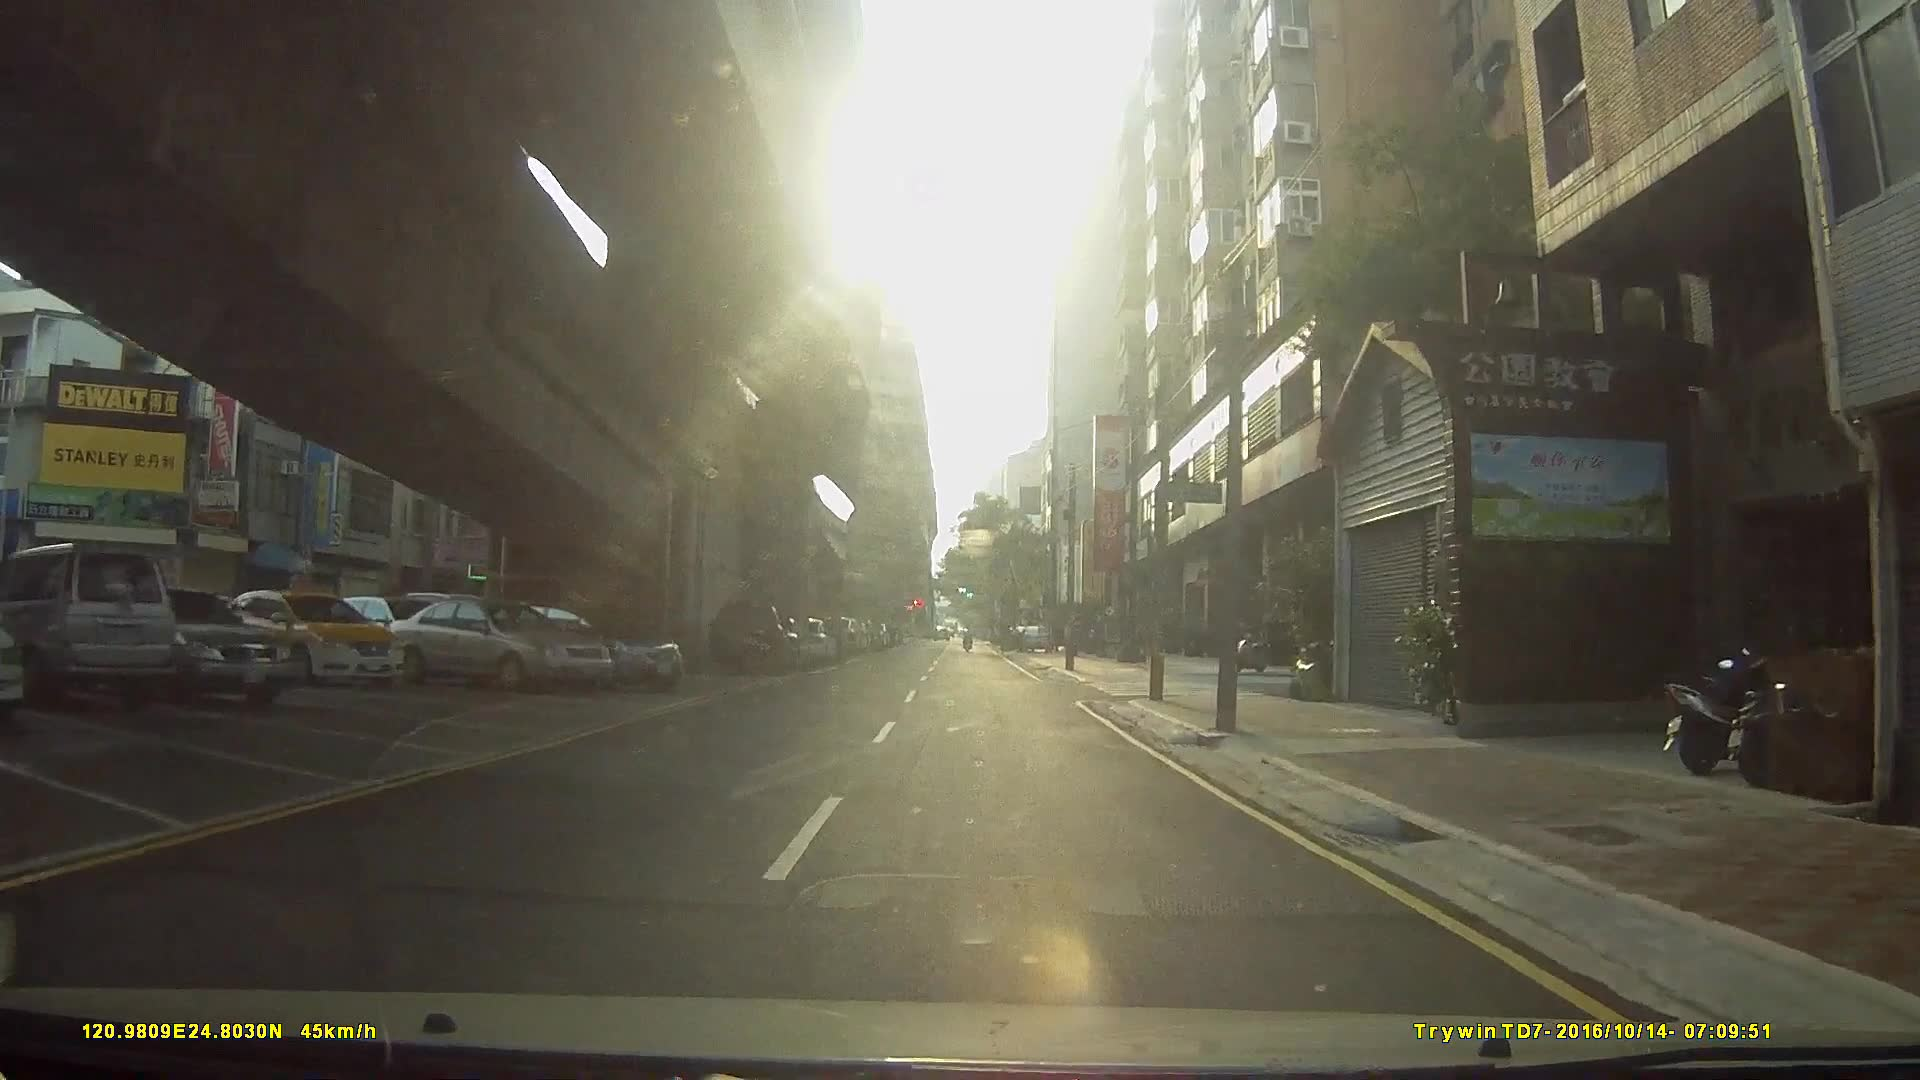vehicle: (0, 542, 179, 711), (76, 587, 291, 709), (373, 596, 607, 694), (458, 597, 682, 694), (222, 589, 404, 688), (703, 599, 793, 676)
